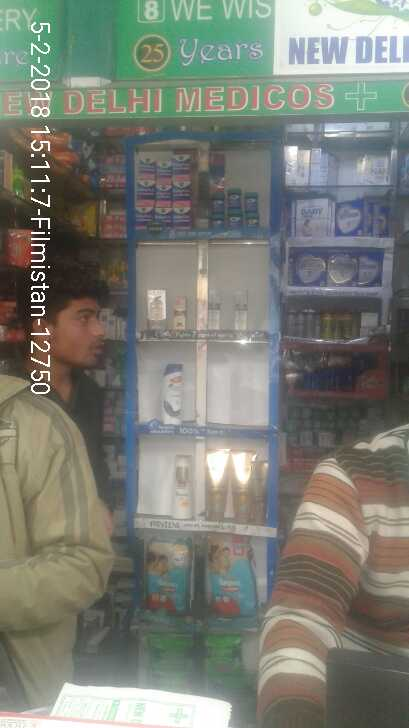vicks: (136, 145, 259, 230)
